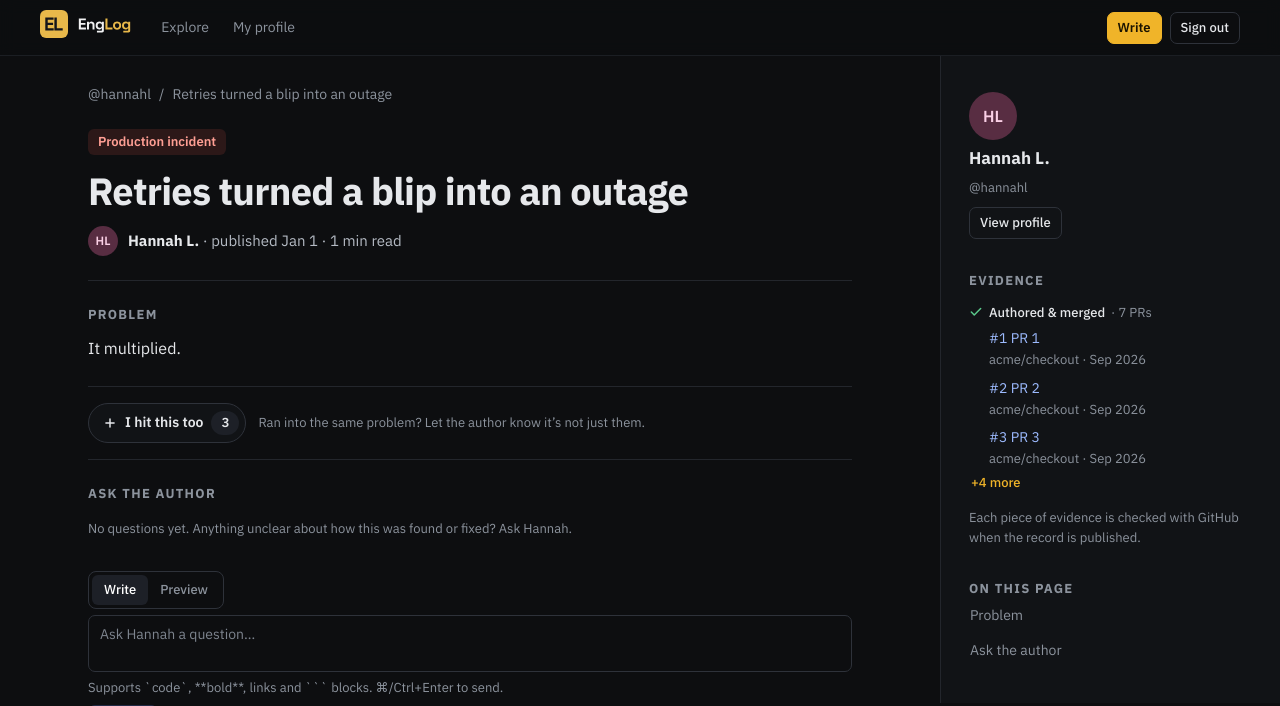
it: the post page rail › shows 3 rows and a "+N more" toggle for a group of more than 5
This screenshot has width=1280, height=706.
Expected: the link "#1 PR 1" is shown, left=989, top=329, right=1040, bottom=347
Expected: the link "#3 PR 3" is shown, left=989, top=428, right=1040, bottom=446
Click the button "+4 more". click: (996, 482)
box: left=969, top=468, right=1023, bottom=496
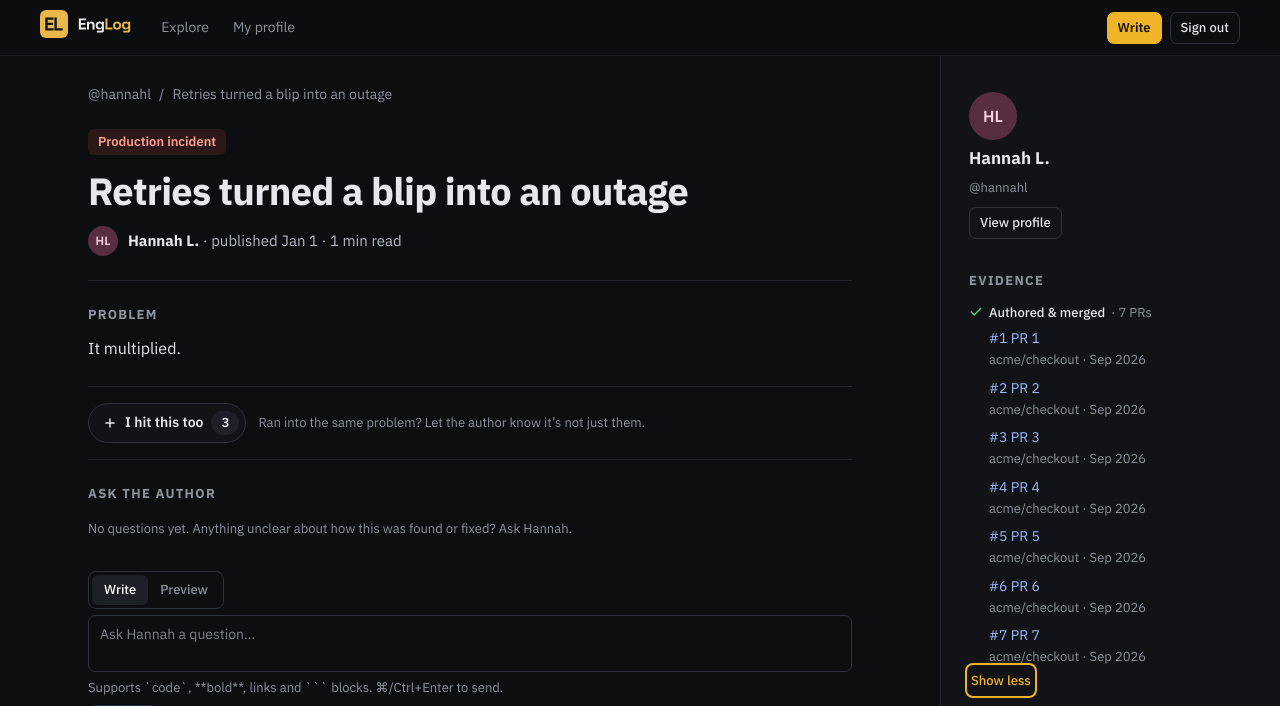
Result: the link "#4 PR 4" is shown at left=989, top=478, right=1040, bottom=496
Result: the link "#7 PR 7" is shown at left=989, top=626, right=1040, bottom=644
Result: the button "Show less" is shown at left=969, top=666, right=1033, bottom=694
